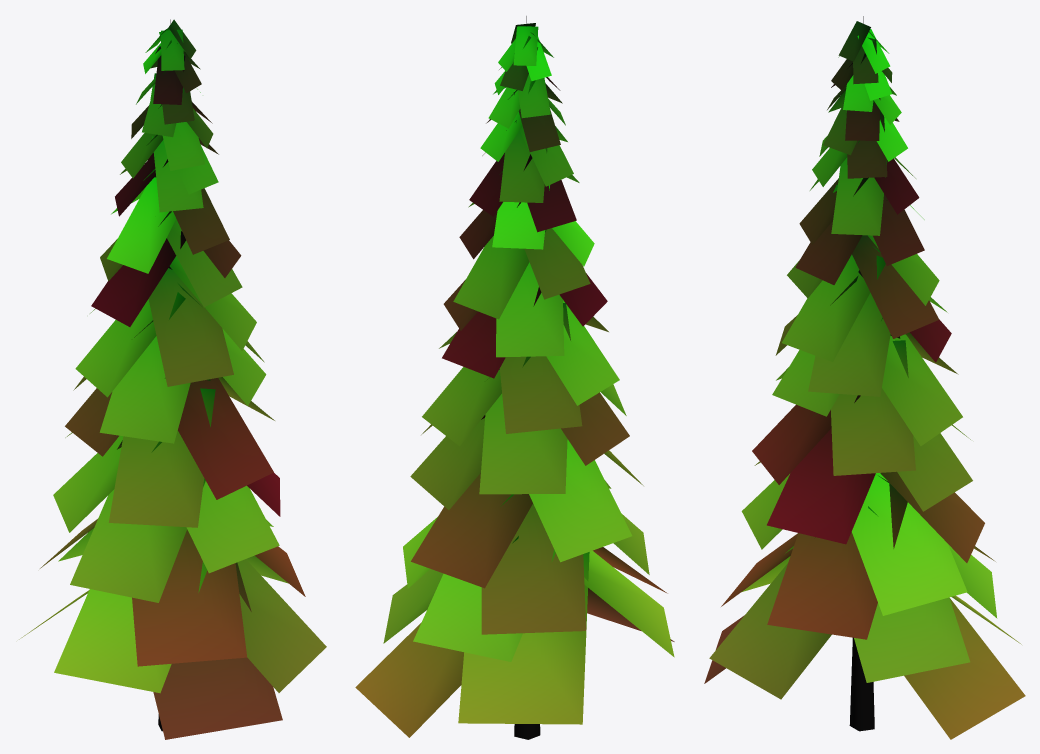
File: SuperPine_1_11.fbx
The picture shows the model from 3 angles, left to right: view 1: azimuth 30°, elevation 25°; view 2: azimuth 150°, elevation 25°; view 3: azimuth 270°, elevation 25°; orthographic projection.
Visible parts, largest first — view 1: SuperPine_1_11; view 2: SuperPine_1_11; view 3: SuperPine_1_11.
Boxes of the visible parts, x1,y1,x2,y2 form: SuperPine_1_11: (19, 19, 326, 739); SuperPine_1_11: (355, 16, 674, 739); SuperPine_1_11: (704, 16, 1025, 739).
Bounding box in the file's own units: 482 × 1250 × 512.
